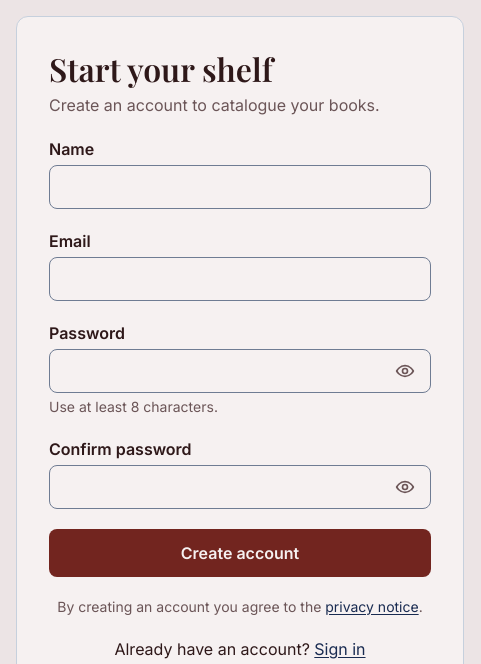
it: RegisterForm › clears a field's message as soon as you edit that field
Expected: the field labelled "Name" is shown, [49,165,431,209]
Click the button "Create account" at (240, 553), box [49,529,431,577]
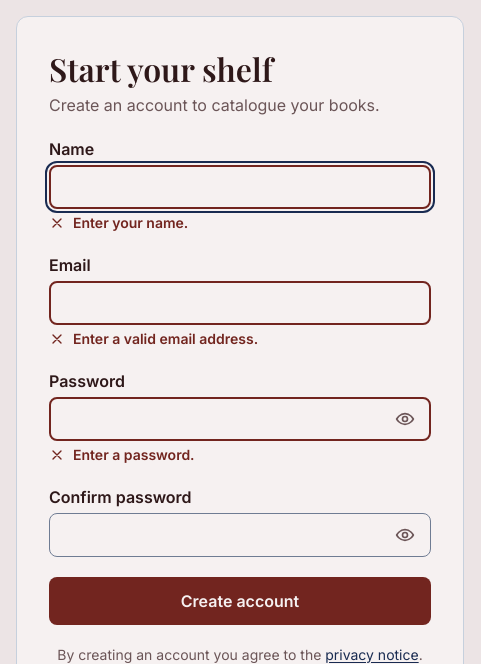
Now the text "Enter your name." is shown, box [73,213,188,233]
Type "Alice" into the field labelled "Name" at (240, 187), box [49,165,431,209]
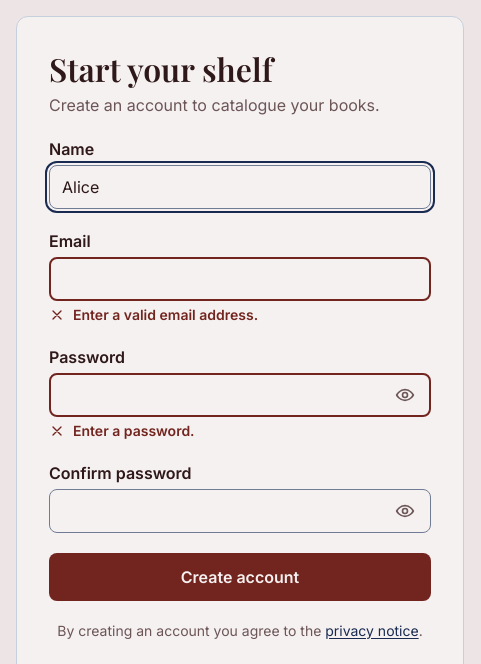
Now the text "Enter a valid email address." is shown, box [73,305,258,325]
Now the text "Enter your name." is gone
